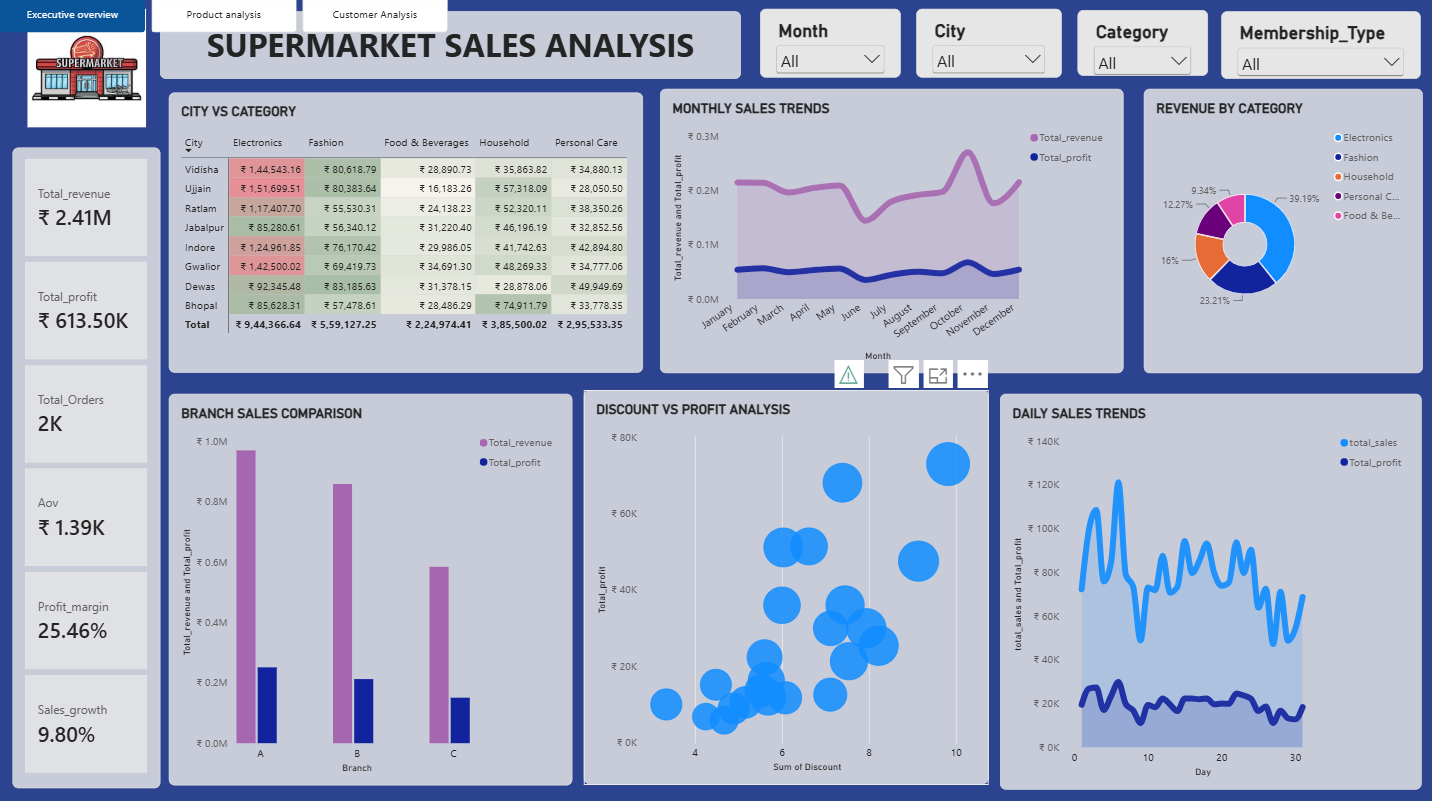

This screenshot's page, from the dashboard's own definition file:
{"tool":"powerbi","page":{"name":"Excecutive overview","canvas":[1920,1080],"ordinal":0},"visuals":[{"type":"cardVisual","fields":{"Data":["Supermarket_Sales_Customer_Analysis_RAW (2).Total_revenue","Supermarket_Sales_Customer_Analysis_RAW (2).Total_profit","Supermarket_Sales_Customer_Analysis_RAW (2).Total_Orders","Supermarket_Sales_Customer_Analysis_RAW (2).Aov","Supermarket_Sales_Customer_Analysis_RAW (2).Profit_margin","Supermarket_Sales_Customer_Analysis_RAW (2).Sales_growth"]},"box":[16.3,204.5,197.3,856],"z":0},{"type":"slicer","fields":{"Values":["Supermarket_Sales_Customer_Analysis_RAW (2).Order_Date.Variation.Date Hierarchy.Month"]},"box":[1016,18,188,92],"z":1000},{"type":"slicer","fields":{"Values":["Supermarket_Sales_Customer_Analysis_RAW (2).City"]},"box":[1224,18,194,92],"z":2000},{"type":"slicer","fields":{"Values":["Supermarket_Sales_Customer_Analysis_RAW (2).Category"]},"box":[1440,20,174,88],"z":3000},{"type":"lineChart","title":"MONTHLY SALES TRENDS ","fields":{"Category":["Supermarket_Sales_Customer_Analysis_RAW (2).Order_Date.Variation.Date Hierarchy.Month"],"Y":["Supermarket_Sales_Customer_Analysis_RAW (2).Total_revenue","Supermarket_Sales_Customer_Analysis_RAW (2).Total_profit"]},"box":[881.3,124.9,618.9,380],"z":4000},{"type":"donutChart","title":"REVENUE BY CATEGORY ","fields":{"Category":["Supermarket_Sales_Customer_Analysis_RAW (2).Category"],"Y":["Supermarket_Sales_Customer_Analysis_RAW (2).Total_revenue"]},"box":[1527.4,124.9,372.8,380],"z":5000},{"type":"clusteredColumnChart","title":"BRANCH SALES COMPARISON ","fields":{"Category":["Supermarket_Sales_Customer_Analysis_RAW (2).Branch"],"Y":["Supermarket_Sales_Customer_Analysis_RAW (2).Total_revenue","Supermarket_Sales_Customer_Analysis_RAW (2).Total_profit"]},"box":[226.2,532,539.3,523],"z":6000},{"type":"scatterChart","title":"DISCOUNT VS PROFIT ANALYSIS ","fields":{"Category":["Supermarket_Sales_Customer_Analysis_RAW (2).Product"],"Size":["Sum(Supermarket_Sales_Customer_Analysis_RAW (2).Quantity)"],"X":["Sum(Supermarket_Sales_Customer_Analysis_RAW (2).Discount)"],"Y":["Supermarket_Sales_Customer_Analysis_RAW (2).Total_profit"]},"box":[780,528.4,541.1,526.6],"z":7000},{"type":"textbox","box":[213.5,21.7,776.3,90.5],"z":8000},{"type":"image","box":[16,18,198,158],"z":9000},{"type":"pivotTable","title":"CITY VS CATEGORY","fields":{"Columns":["Supermarket_Sales_Customer_Analysis_RAW (2).Category"],"Rows":["Supermarket_Sales_Customer_Analysis_RAW (2).City"],"Values":["Supermarket_Sales_Customer_Analysis_RAW (2).Total_revenue"]},"box":[226.2,130.3,633.4,374.6],"z":10000},{"type":"slicer","fields":{"Values":["Supermarket_Sales_Customer_Analysis_RAW (2).Membership_Type"]},"box":[1632,22,266,90],"z":11000},{"type":"areaChart","title":"DAILY SALES TRENDS ","fields":{"Category":["Supermarket_Sales_Customer_Analysis_RAW (2).Order_Date.Variation.Date Hierarchy.Day"],"Y":["CATEGORY TARGETS.total_sales","Supermarket_Sales_Customer_Analysis_RAW (2).Total_profit"]},"box":[1335.5,532,562.8,528.4],"z":12000},{"type":"pageNavigator","box":[0,0,600,50],"z":13000}]}

Visuals, with their boxes in screenshot pixels (x1, y1, x2, y2), scaled from the page's 1920x1080 canvas onto the 1432x801 screenshot:
cardVisual - Supermarket_Sales_Customer_Analysis_RAW (2).Total_revenue x Supermarket_Sales_Customer_Analysis_RAW (2).Total_profit: x1=12, y1=152, x2=159, y2=787
slicer - Supermarket_Sales_Customer_Analysis_RAW (2).Order_Date.Variation.Date Hierarchy.Month: x1=758, y1=13, x2=898, y2=82
slicer - Supermarket_Sales_Customer_Analysis_RAW (2).City: x1=913, y1=13, x2=1058, y2=82
slicer - Supermarket_Sales_Customer_Analysis_RAW (2).Category: x1=1074, y1=15, x2=1204, y2=80
"MONTHLY SALES TRENDS " lineChart: x1=657, y1=93, x2=1119, y2=374
"REVENUE BY CATEGORY " donutChart: x1=1139, y1=93, x2=1417, y2=374
"BRANCH SALES COMPARISON " clusteredColumnChart: x1=169, y1=395, x2=571, y2=782
"DISCOUNT VS PROFIT ANALYSIS " scatterChart: x1=582, y1=392, x2=985, y2=782
textbox: x1=159, y1=16, x2=738, y2=83
image: x1=12, y1=13, x2=160, y2=131
"CITY VS CATEGORY" pivotTable: x1=169, y1=97, x2=641, y2=374
slicer - Supermarket_Sales_Customer_Analysis_RAW (2).Membership_Type: x1=1217, y1=16, x2=1416, y2=83
"DAILY SALES TRENDS " areaChart: x1=996, y1=395, x2=1416, y2=786
pageNavigator: x1=0, y1=0, x2=448, y2=37
